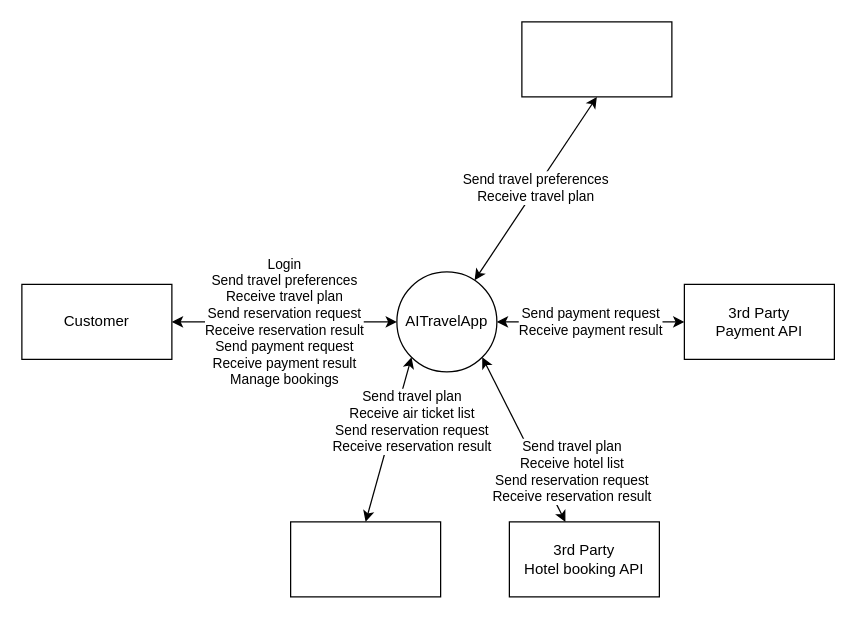
This 856x619 diagram has some shape labels left out. Each missing label, with the box of its shape:
3rd Party Air ticket booking API: (289, 521, 441, 597)
3rd Party LLM API: (521, 21, 672, 97)
